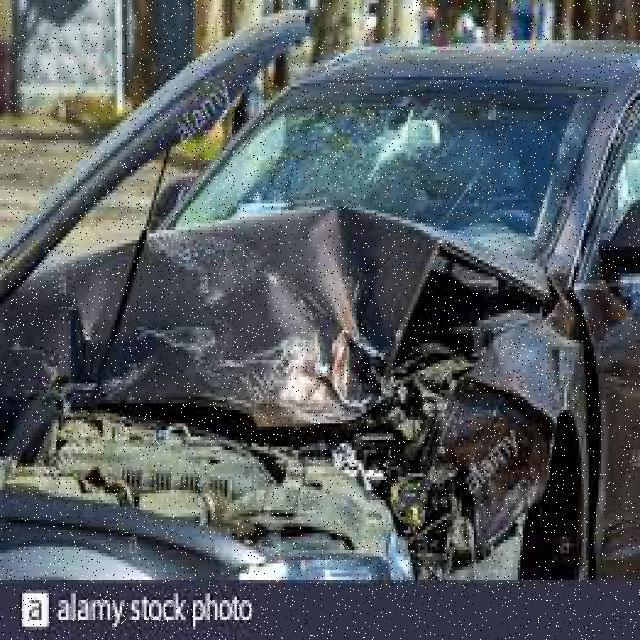Front-Windscreen-Damage: (146, 60, 594, 244)
bonnet-dent: (0, 216, 494, 444)
